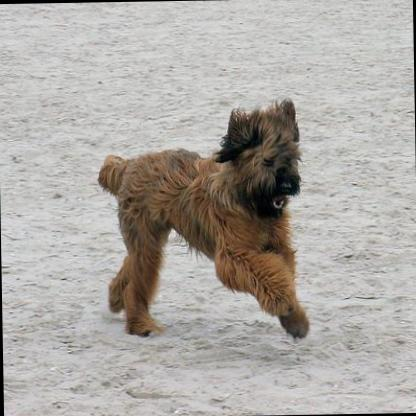briard: (91, 94, 311, 340)
